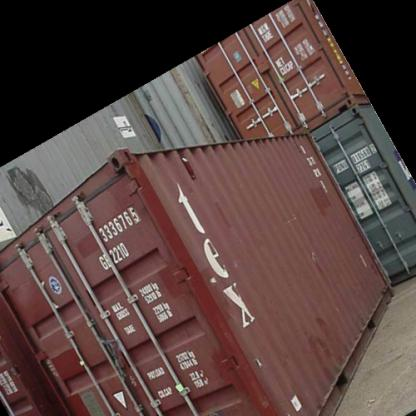Damage: (336, 272, 375, 294), (306, 248, 326, 271), (253, 352, 273, 372), (278, 213, 306, 223), (328, 299, 344, 314)
